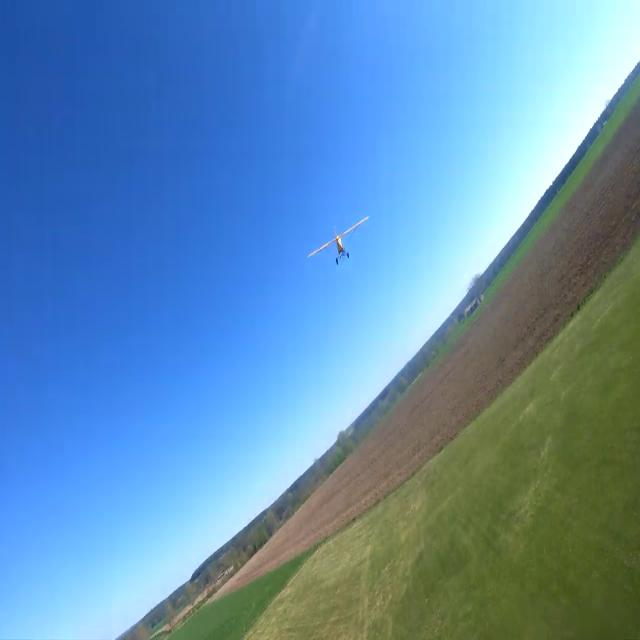iha: (307, 215, 369, 268)
